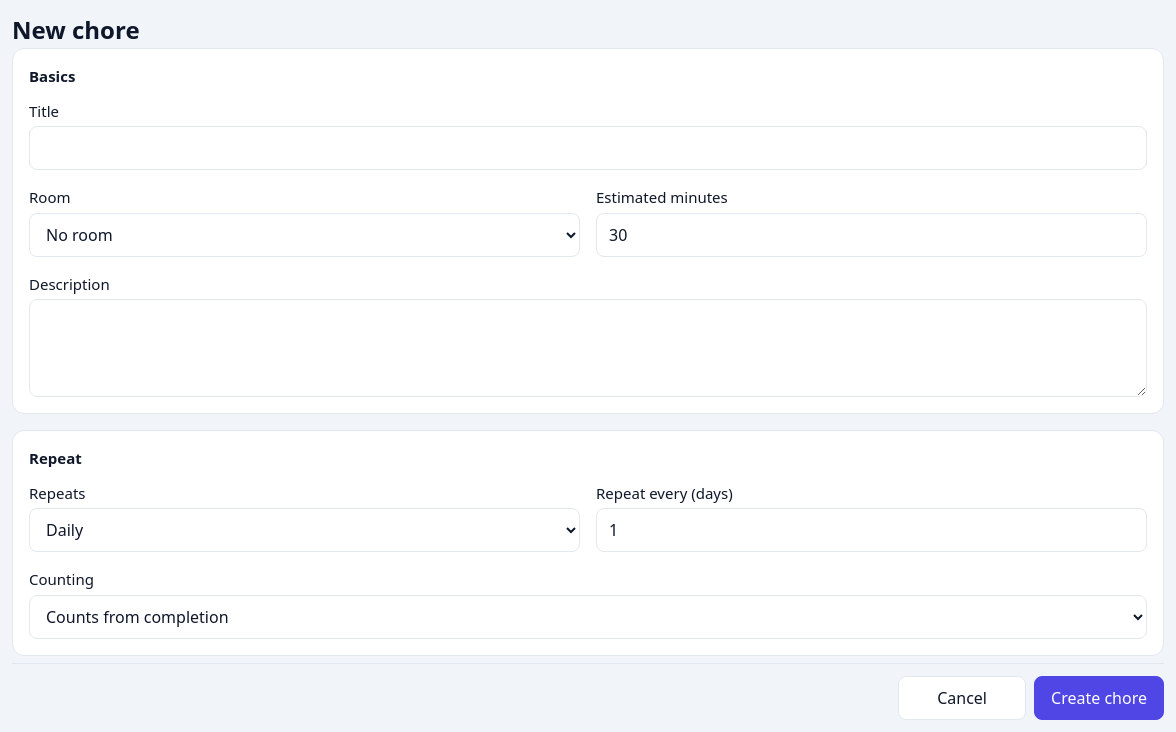
Scenario: ChoreFormPage recurrence fields › only asks for an anchor date when the schedule is fixed
The width and height of the screenshot is (1176, 732).
Check: the field labelled "Anchored on" is not shown
Select "Fixed schedule" in the dropdown labelled "Counting" at (588, 616), box 29,594 -> 1147,638
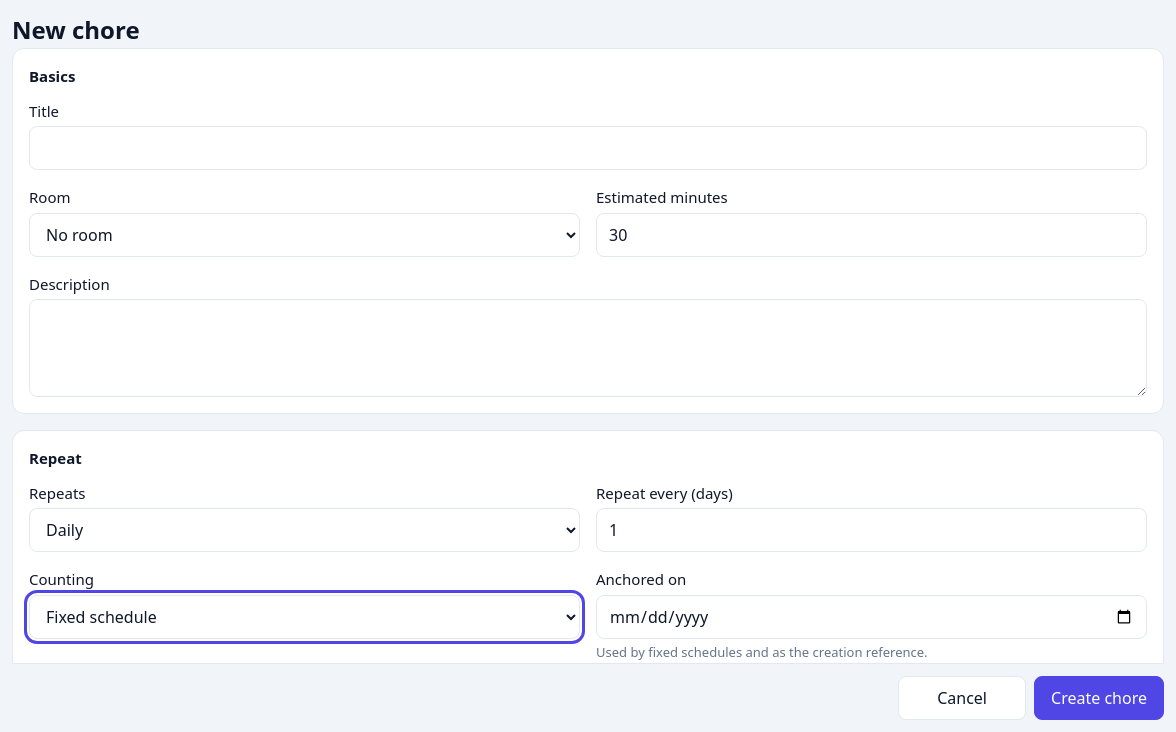
Check: the date field labelled "Anchored on" is shown, box 596,594 -> 1147,638
